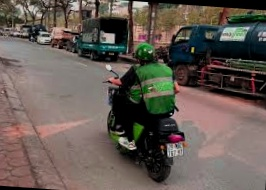Bien-so: (170, 133, 187, 151)
